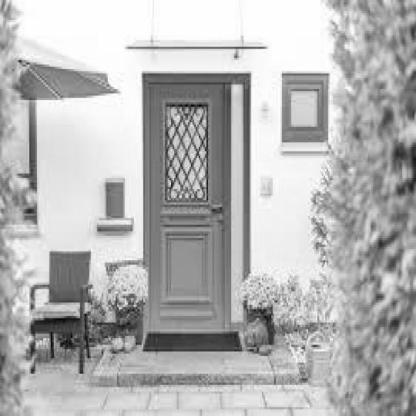door: (131, 63, 257, 340)
